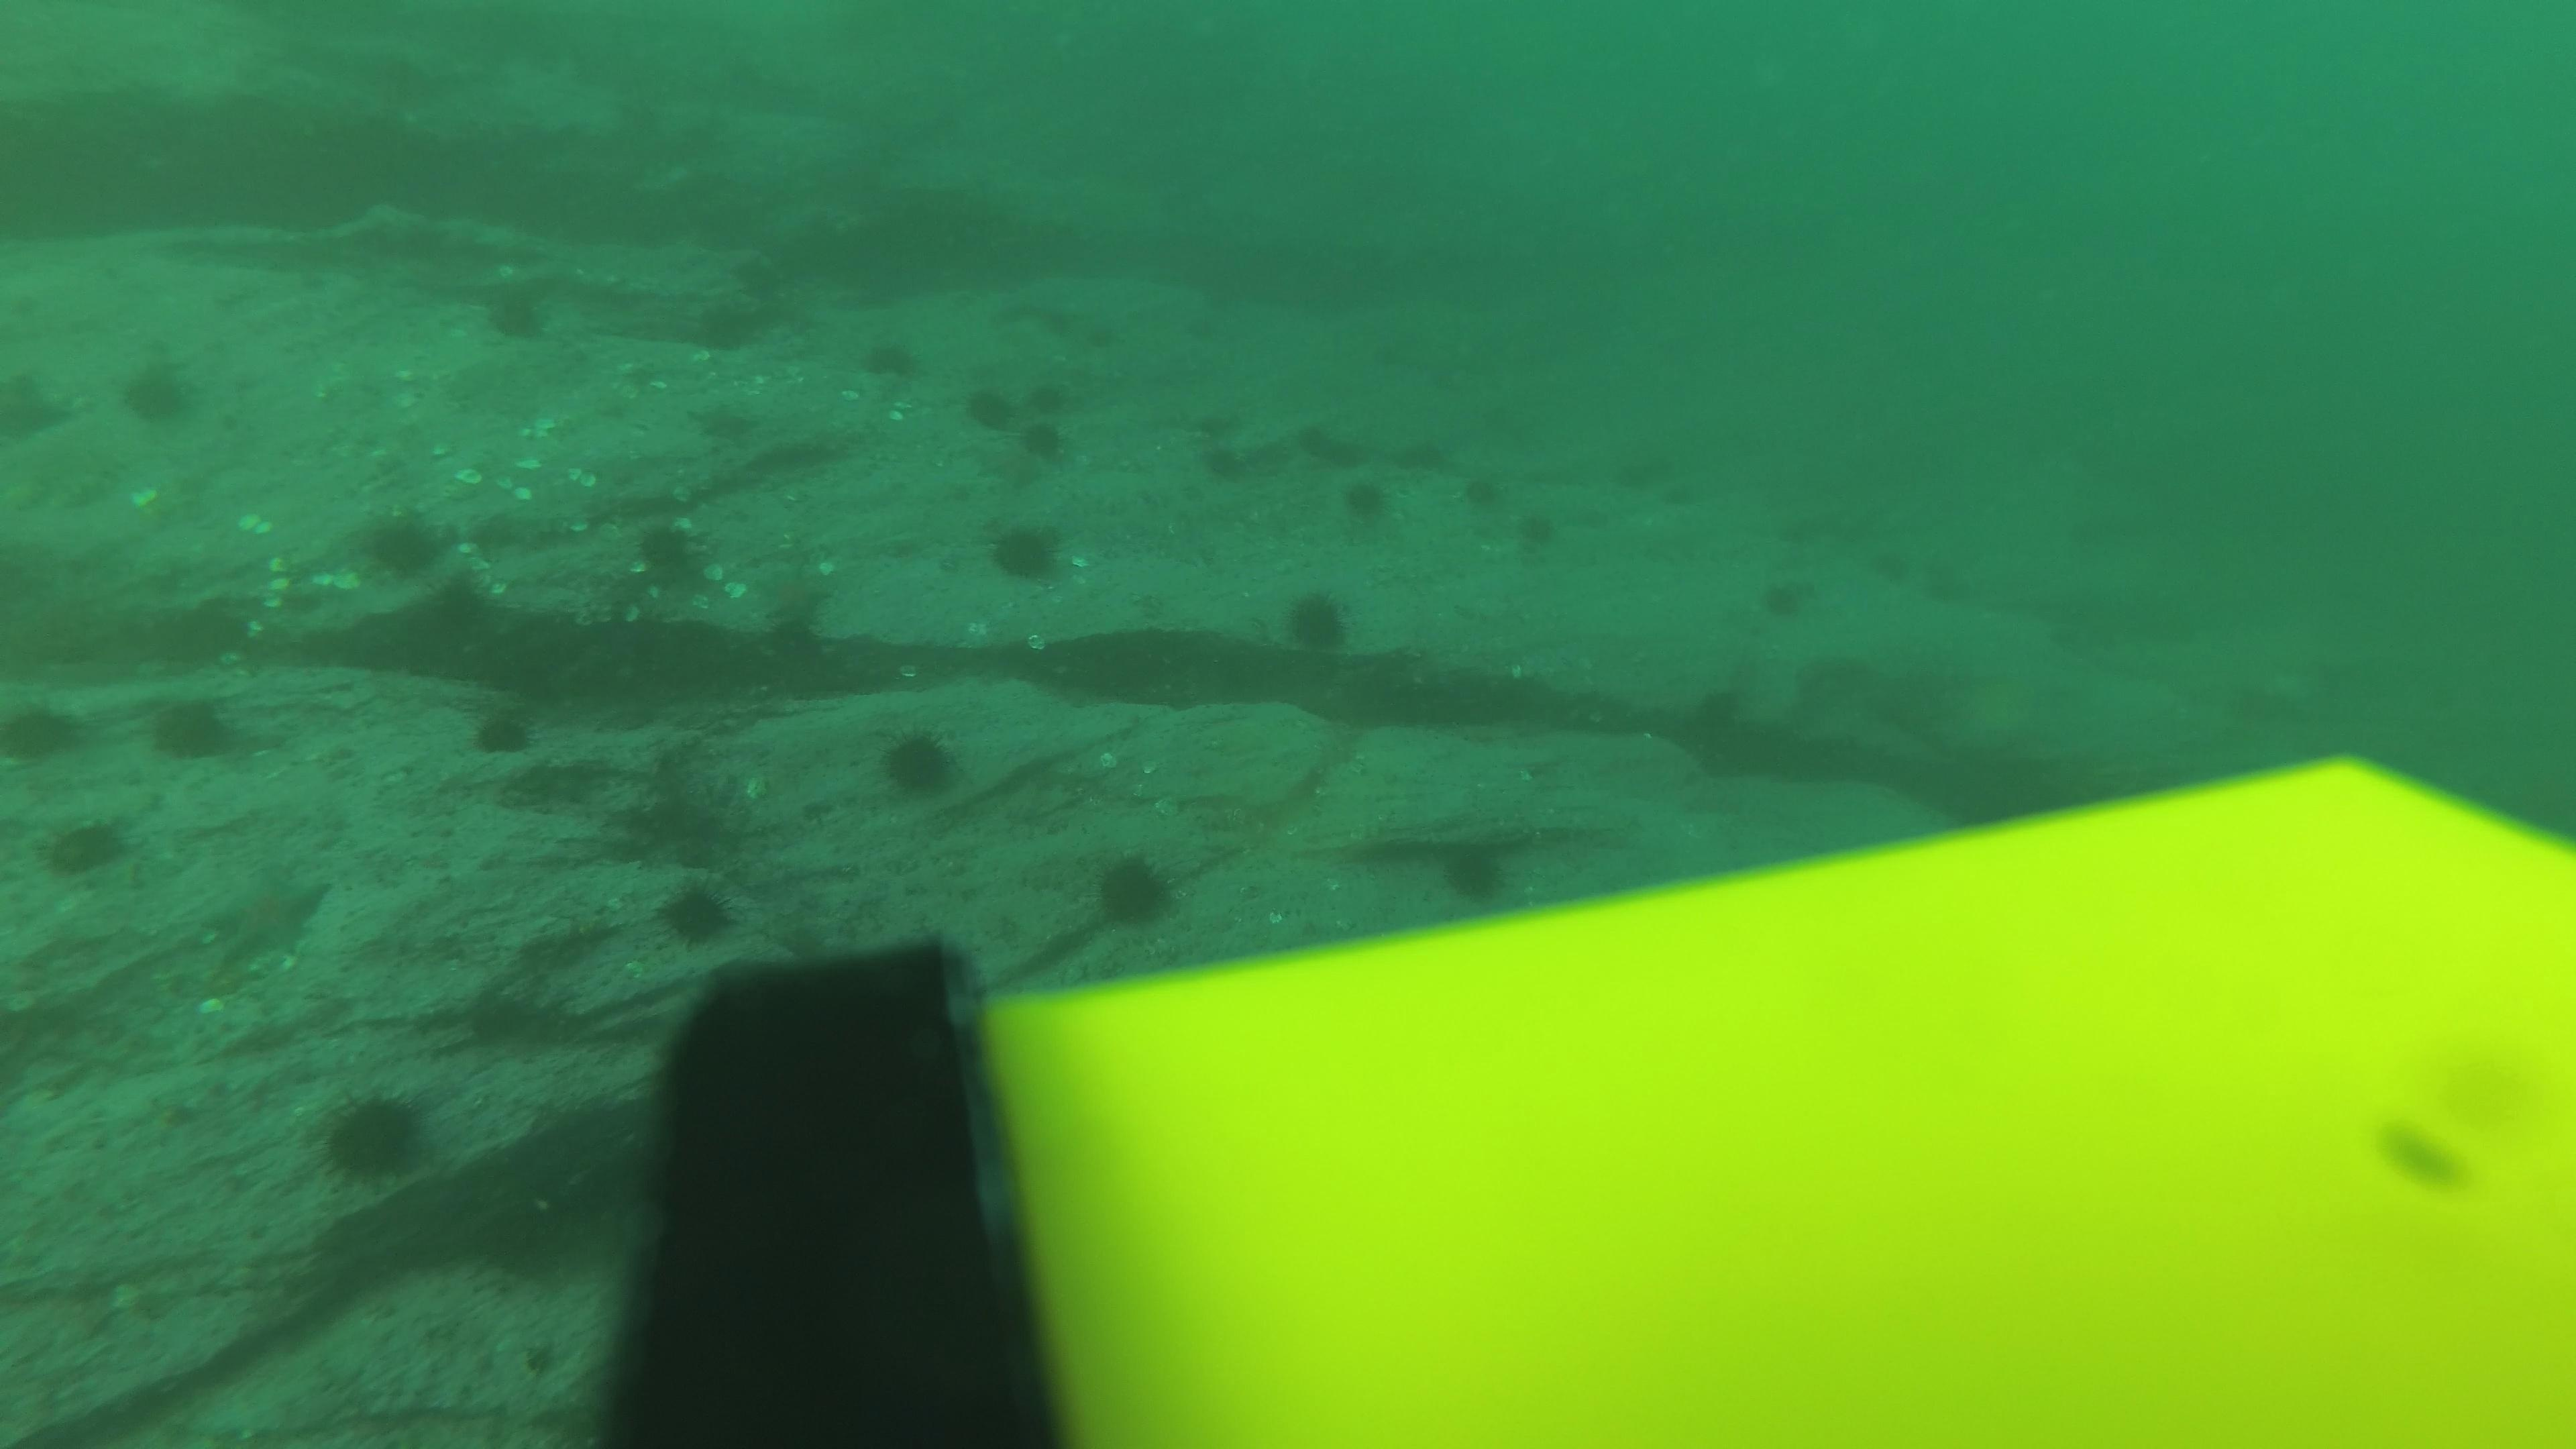echinus: (310, 1083, 435, 1189), (1083, 846, 1185, 936), (2371, 1111, 2477, 1198), (140, 686, 249, 770), (347, 502, 453, 587), (623, 513, 722, 600), (869, 720, 970, 805), (37, 809, 136, 885), (649, 874, 743, 952), (115, 352, 203, 430), (0, 692, 88, 770), (982, 513, 1072, 589), (1433, 833, 1522, 909), (474, 272, 559, 349), (688, 283, 773, 356), (1277, 586, 1357, 658), (462, 695, 545, 763), (962, 379, 1040, 446), (1334, 472, 1398, 533), (856, 331, 922, 386), (1019, 416, 1067, 455), (1021, 380, 1070, 418), (1697, 690, 1743, 727), (1870, 545, 1916, 582), (1612, 462, 1654, 497), (1660, 485, 1702, 518), (1292, 421, 1334, 451), (1407, 442, 1449, 472), (1513, 511, 1555, 541), (1760, 586, 1803, 616), (1322, 439, 1362, 469), (1196, 414, 1237, 444), (1088, 326, 1129, 356), (1033, 299, 1074, 329), (1456, 474, 1497, 504), (1198, 449, 1238, 478), (1640, 455, 1677, 483), (1424, 368, 1463, 395), (1361, 343, 1398, 370), (1200, 287, 1237, 313)
starfish: (205, 862, 334, 966), (757, 564, 837, 633), (688, 395, 759, 444)
